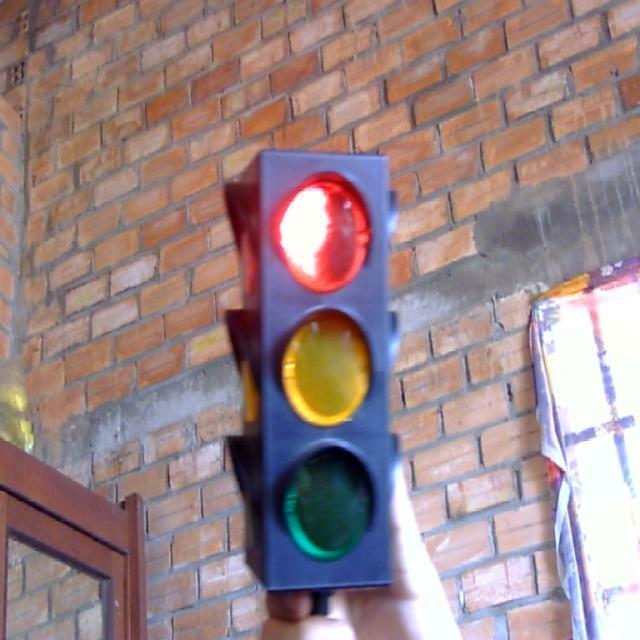red_light: (220, 136, 400, 590)
